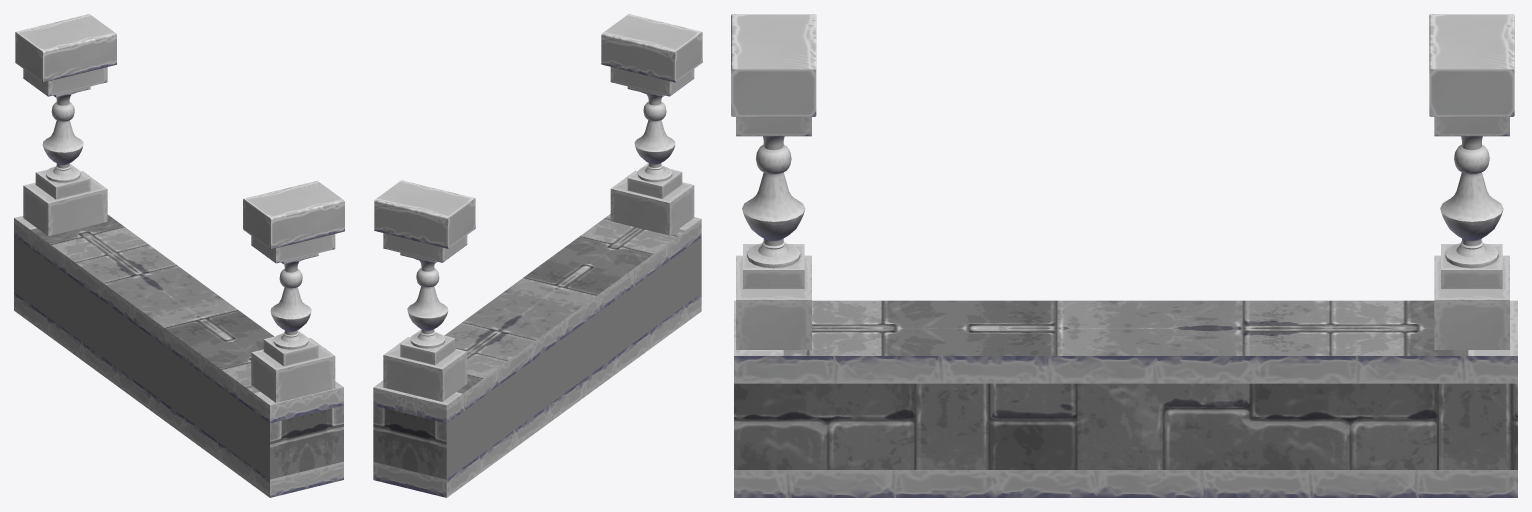
File: Puente_balostres_Paso_A.fbx
3 renders of one model, left to right at view 1: azimuth 30°, elevation 25°; view 2: azimuth 150°, elevation 25°; view 3: azimuth 270°, elevation 25°, orthographic. The views are drawn at different scales.
Parts seen in each view (by area): view 1: Puente_Balostres_paso_A_LOD0; view 2: Puente_Balostres_paso_A_LOD0; view 3: Puente_Balostres_paso_A_LOD0.
Boxes of the visible parts, <box> form: Puente_Balostres_paso_A_LOD0: <box>14,14,344,497</box>; Puente_Balostres_paso_A_LOD0: <box>373,14,702,497</box>; Puente_Balostres_paso_A_LOD0: <box>731,14,1517,497</box>.
Size of what is drawn, in the model's own units: 50 by 181 by 301.
